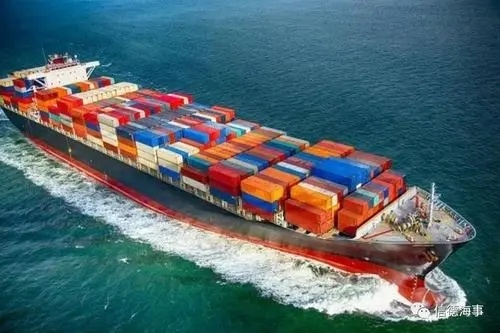Cargoship: (1, 48, 476, 310)
